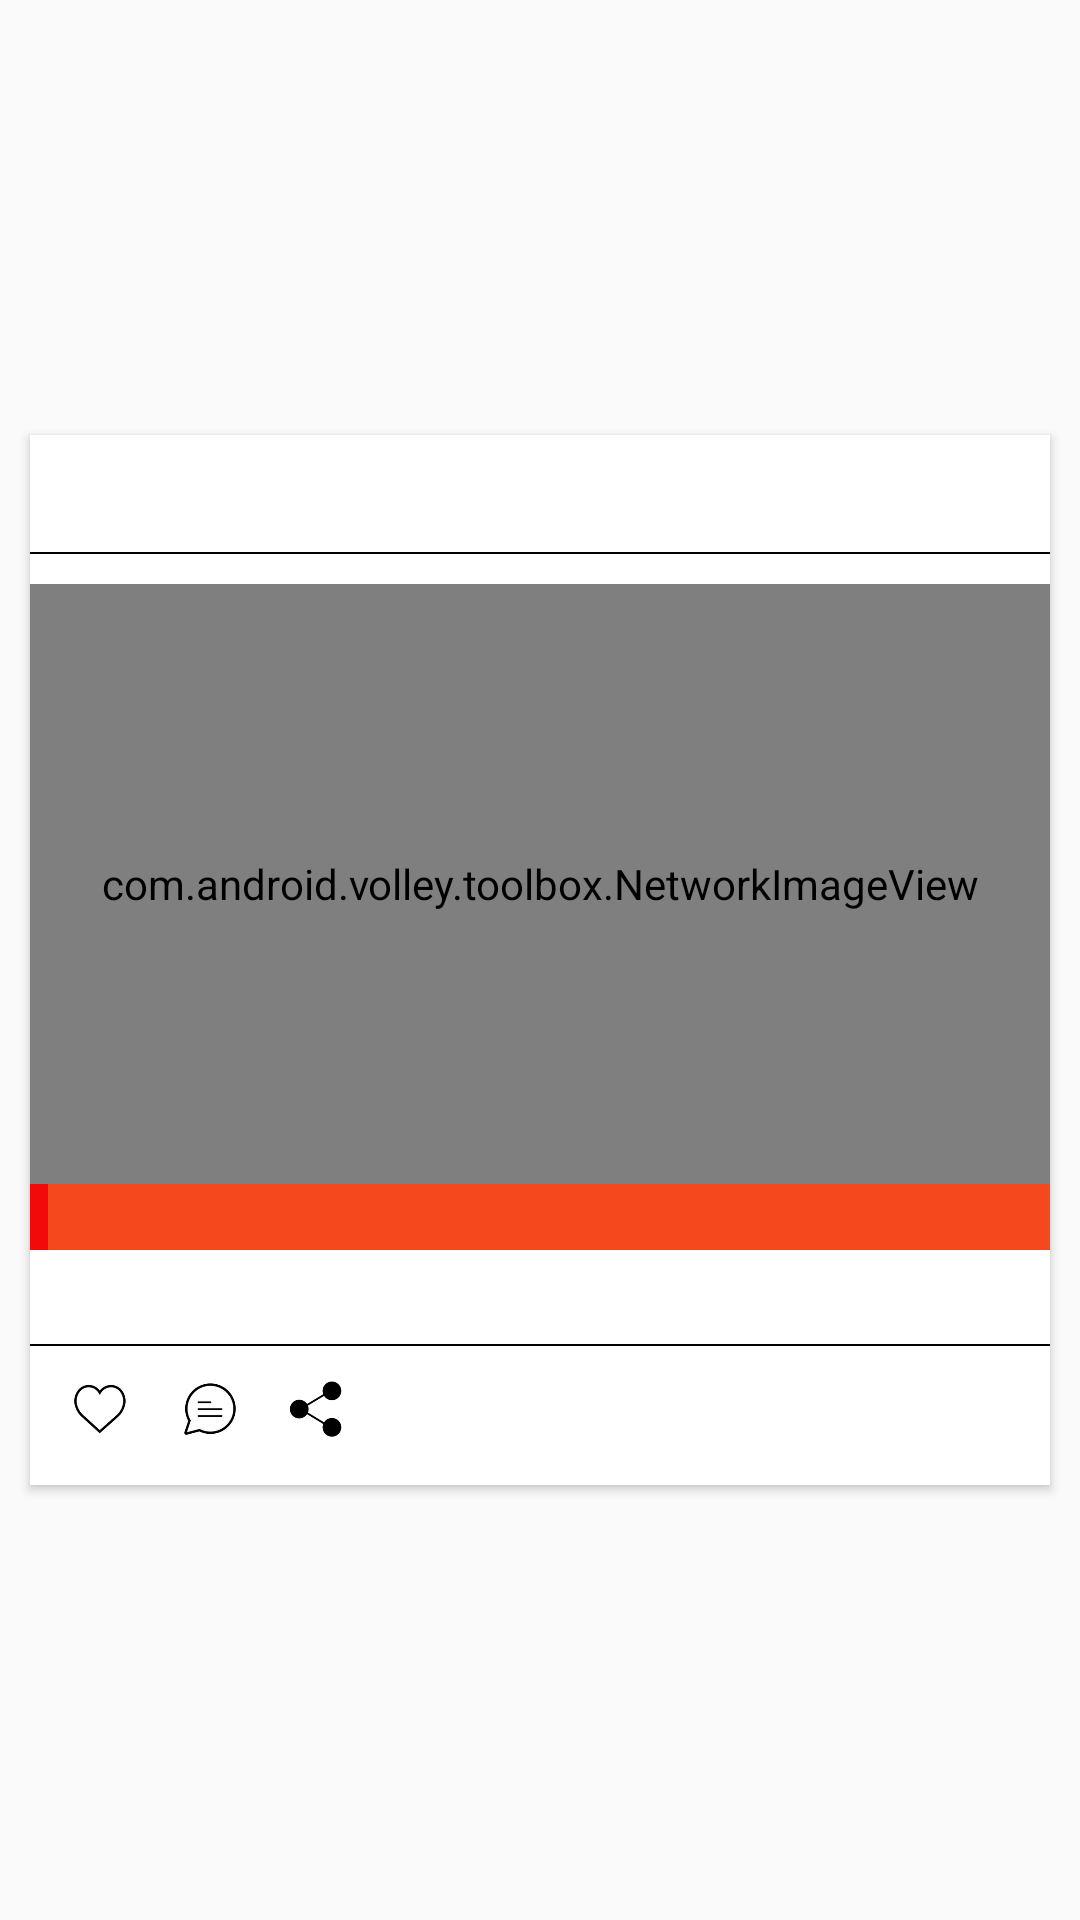

Where to tap for icons on this 1080*1920 app screen, as (x=x, y=y):
commentblack: (x=210, y=1409)
likeblack: (x=100, y=1409)
shareblack: (x=316, y=1409)
